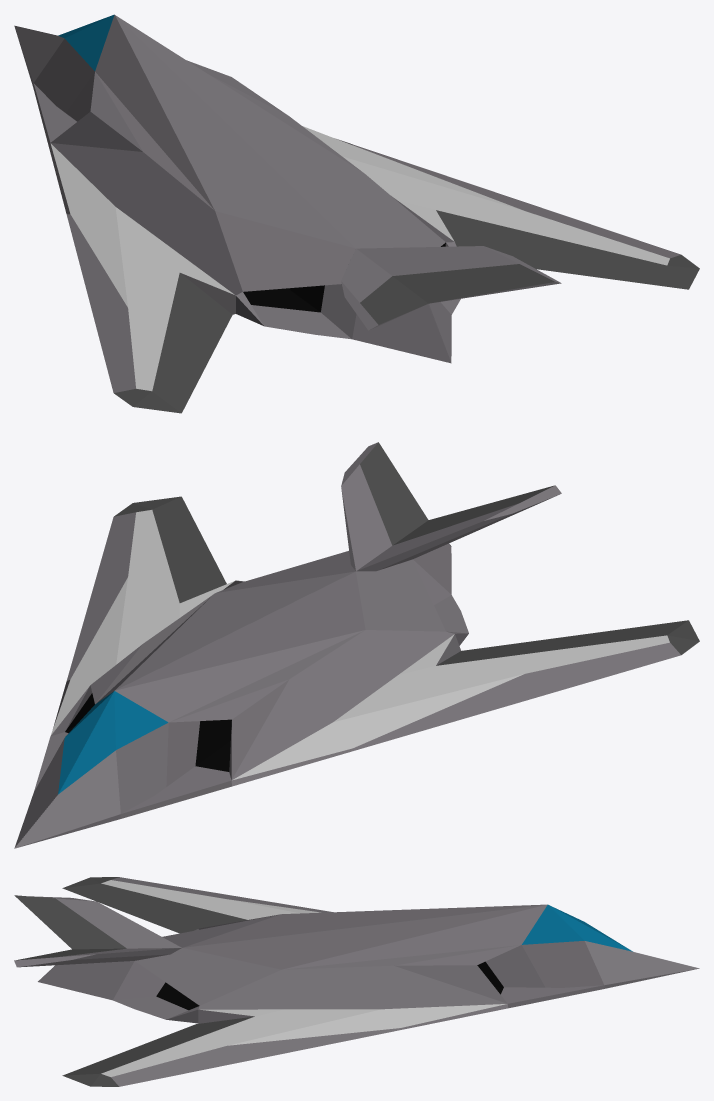
Rendered from Player.fbx.
The picture shows the model from 3 angles, top to bottom: view 1: azimuth 30°, elevation 25°; view 2: azimuth 150°, elevation 25°; view 3: azimuth 270°, elevation 25°; orthographic projection. The views are drawn at different scales.
Parts seen in each view (by area): view 1: Plane Matrix.000; view 2: Plane Matrix.000; view 3: Plane Matrix.000.
Boxes of the visible parts, bbox=[...] form: Plane Matrix.000: bbox=[14, 14, 699, 413]; Plane Matrix.000: bbox=[14, 442, 699, 848]; Plane Matrix.000: bbox=[14, 877, 699, 1086].
Bounding box in the file's own units: 1580 × 276 × 2183.
